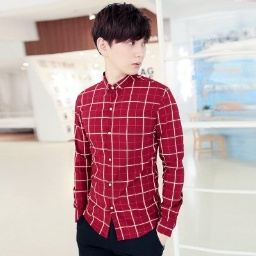face: (91, 2, 153, 79)
